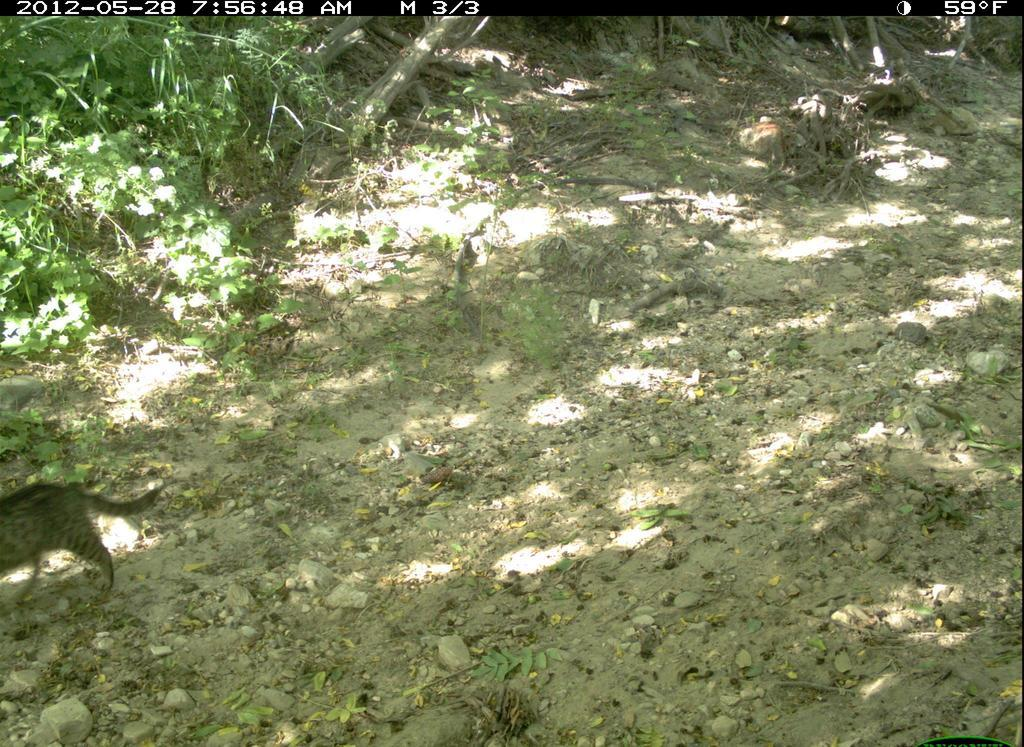cat: (3, 457, 194, 626)
